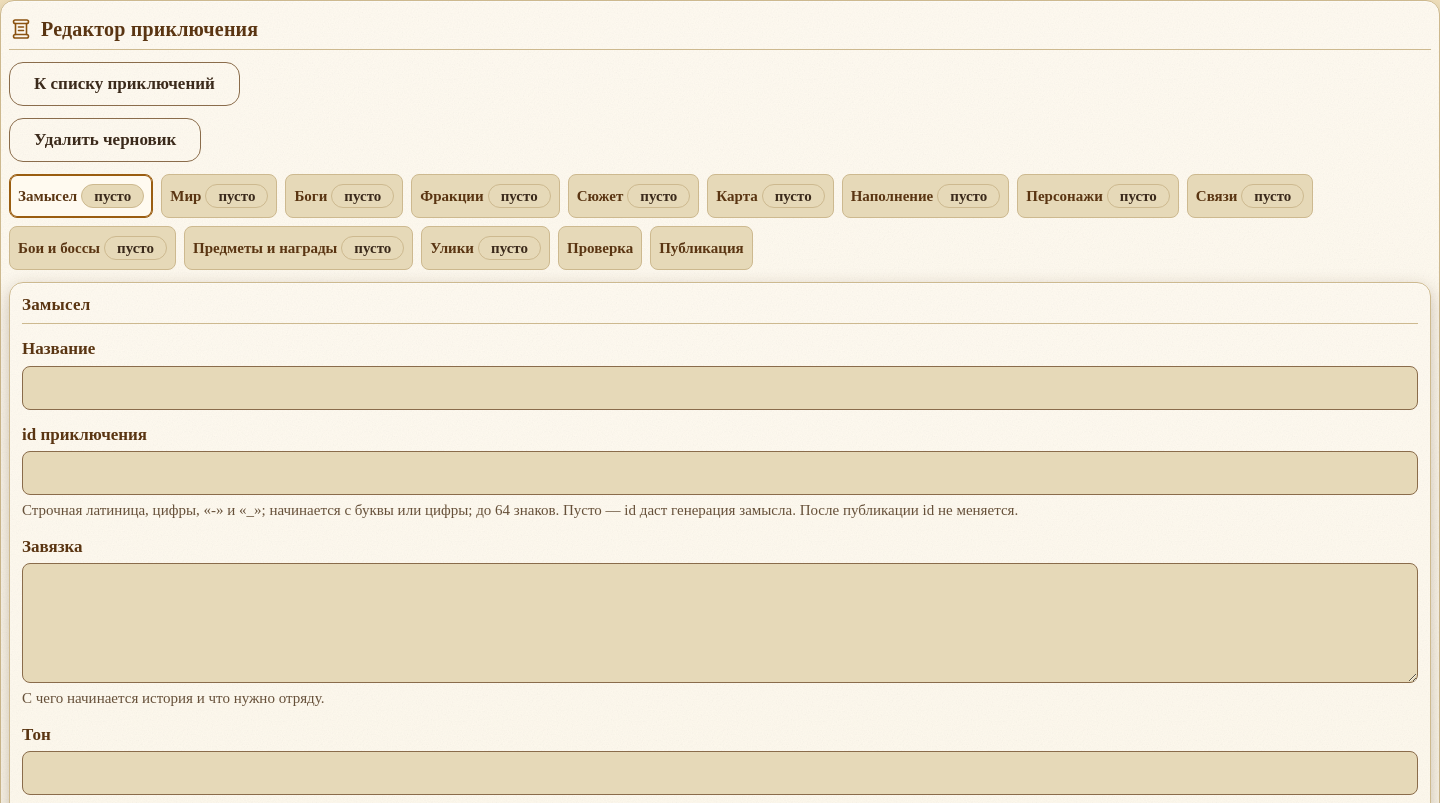
шаг «Наполнение»: локация на выбор › без локаций — подсказка начать с «Карты»
The image size is (1440, 803).
Step 1. Click the button "Наполнение пусто" → coordinates (926, 196), box [842, 174, 1009, 218]
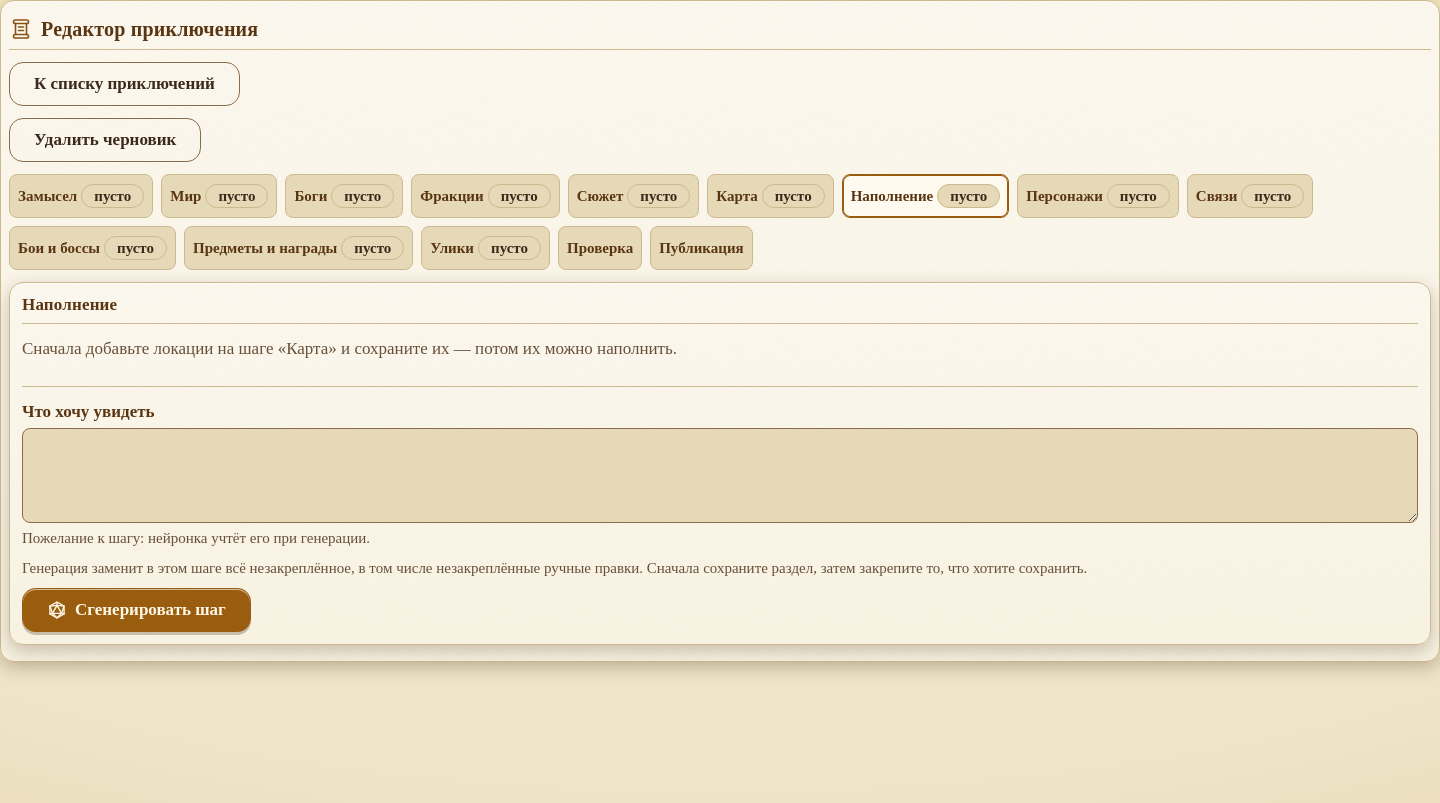
expect the element "Наполнение" shows "Сначала добавьте локации на шаге «Карта»": met, box [22, 339, 677, 358]
